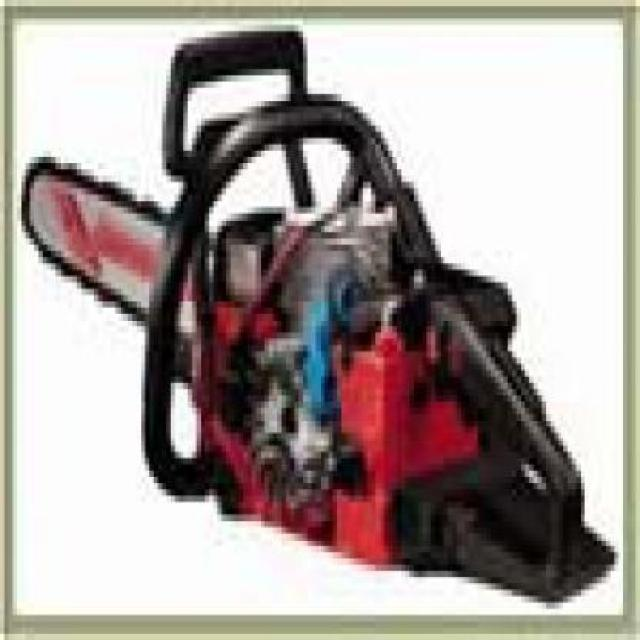Chainsaw: (9, 28, 638, 609)
